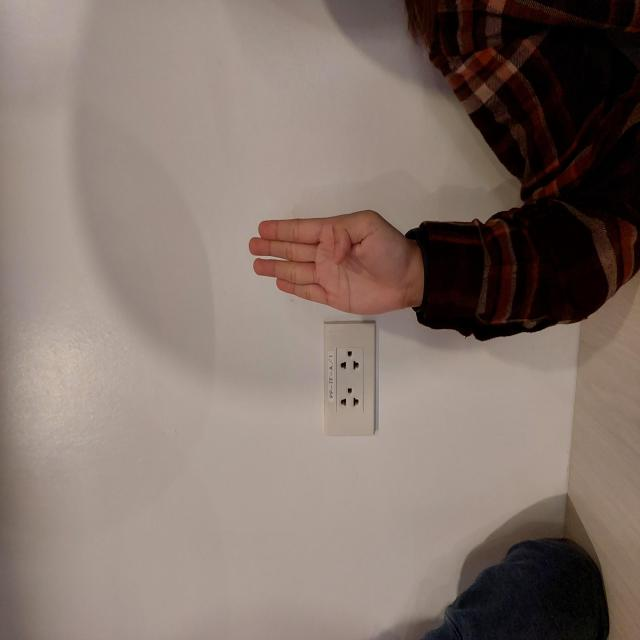B: (321, 242, 438, 417)
